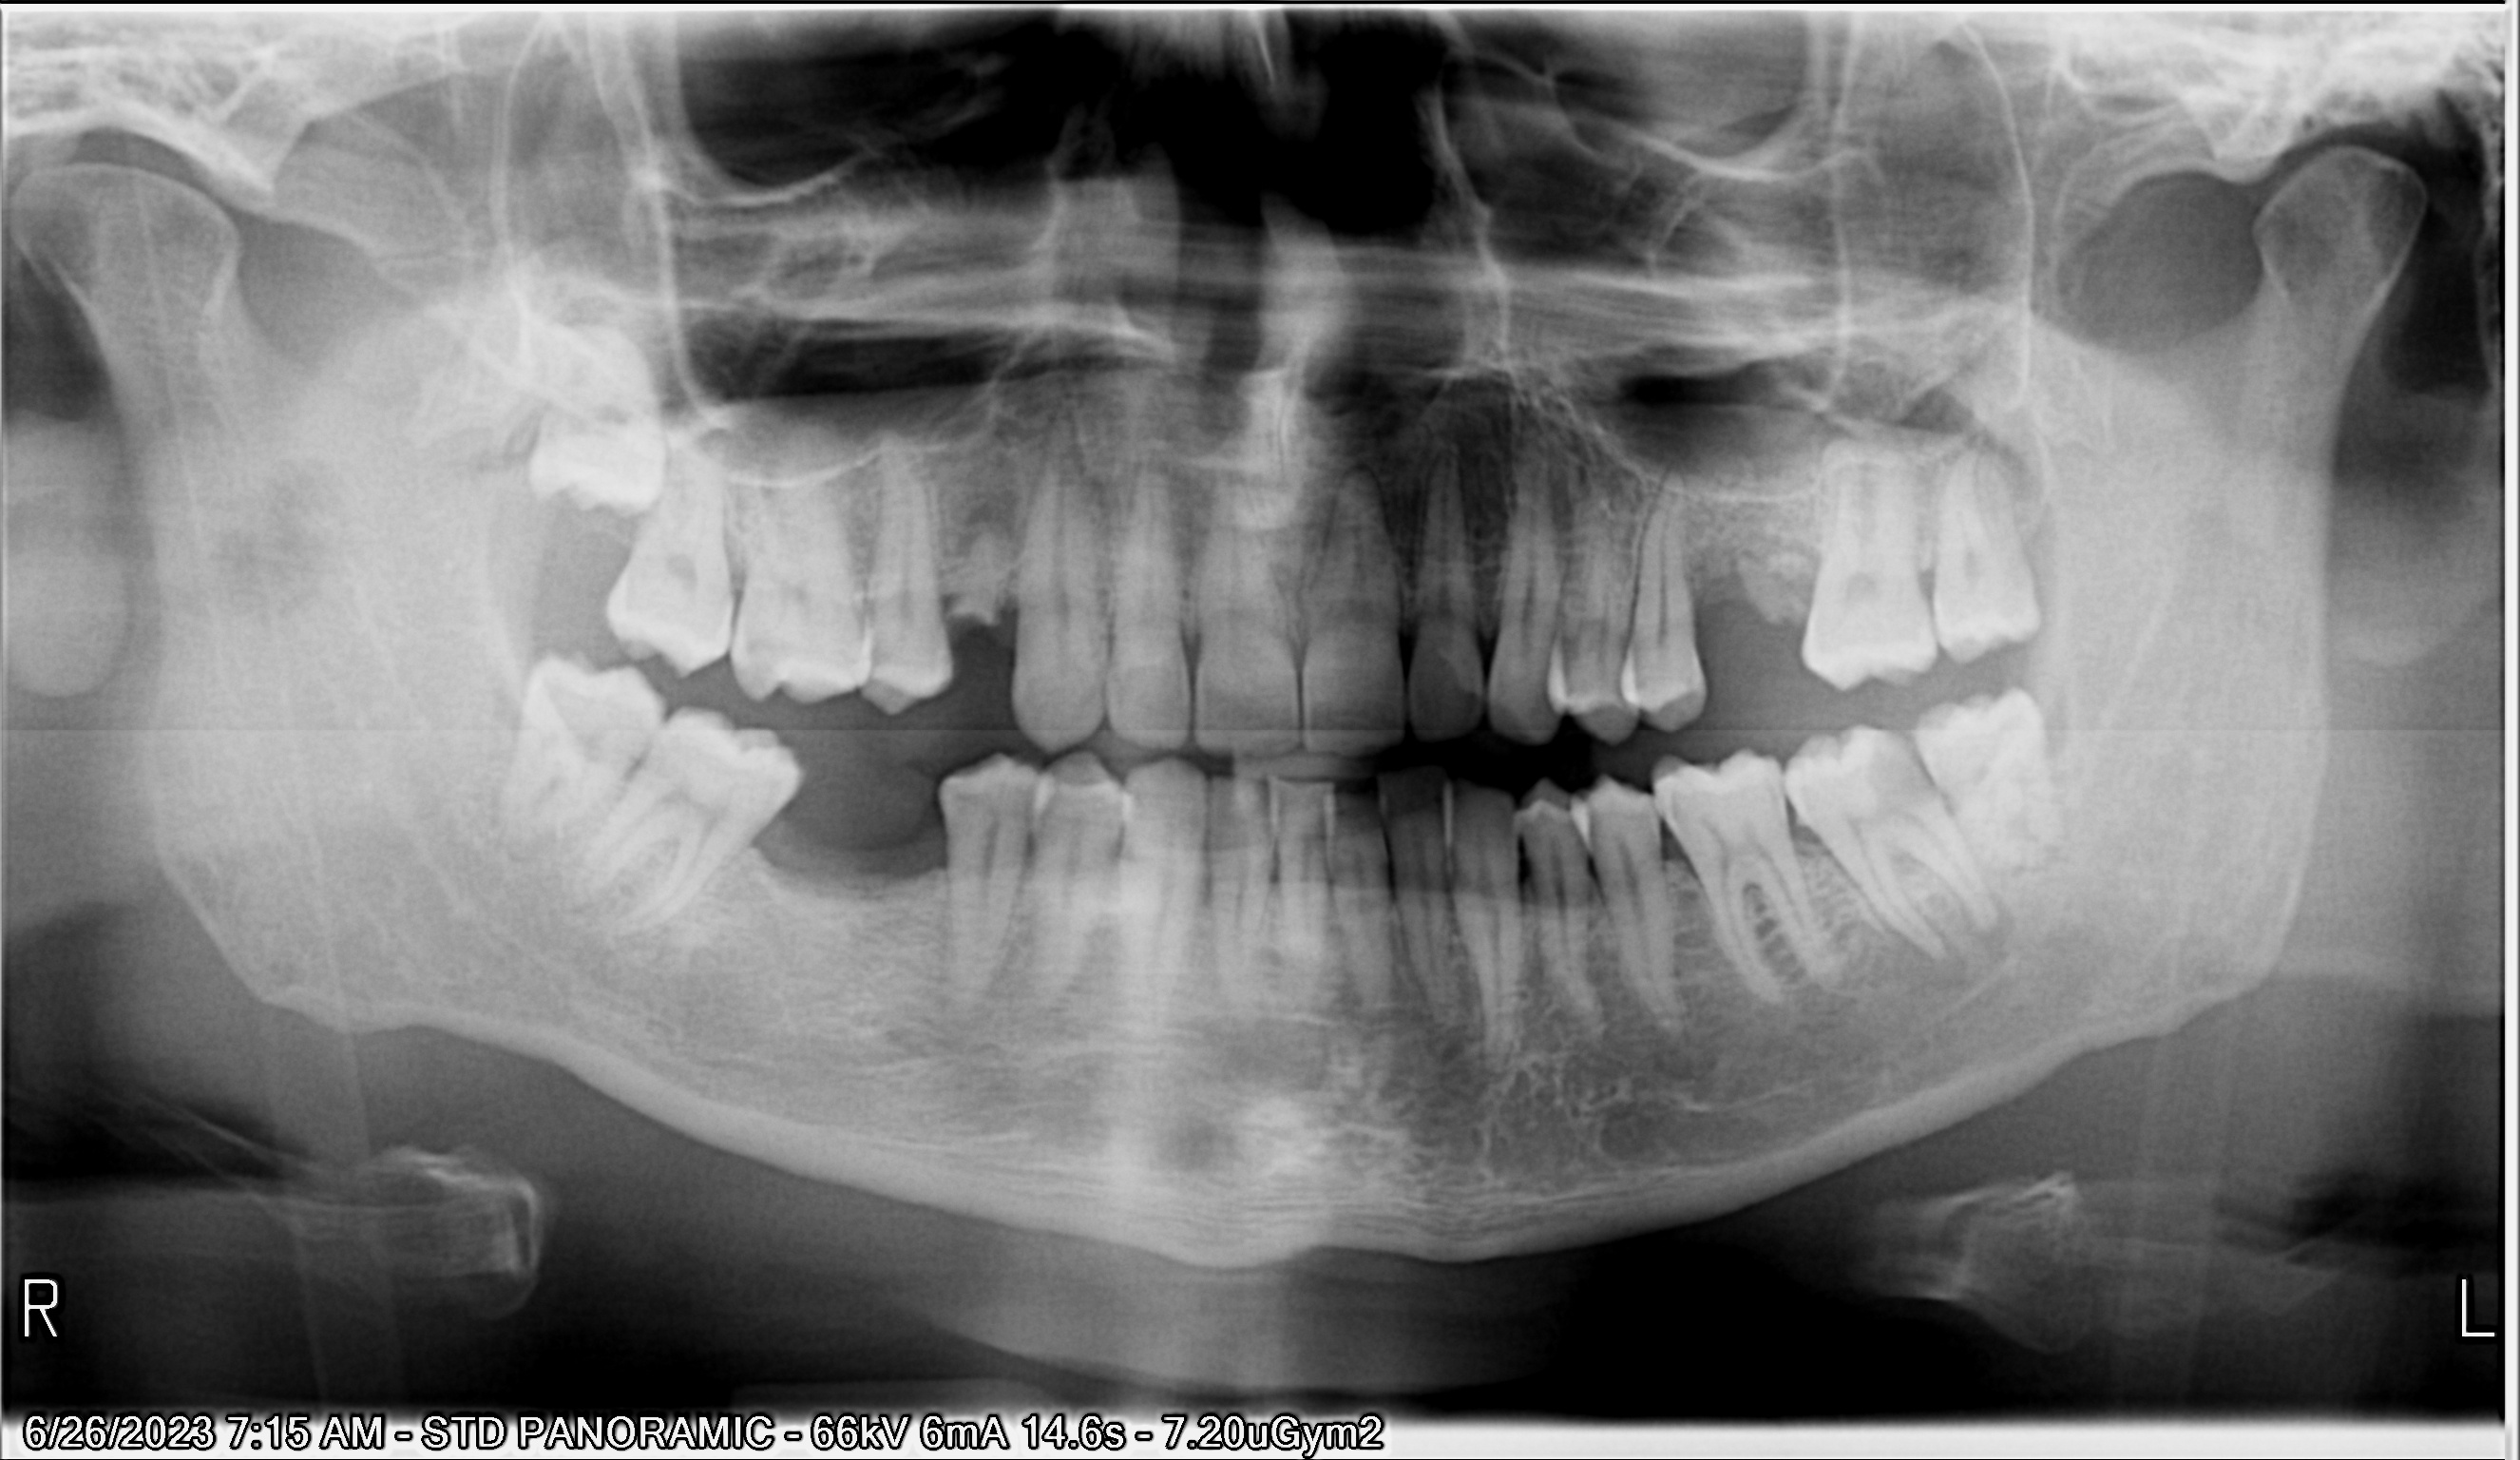API: (1966, 888, 2032, 970), (953, 488, 1019, 553), (1916, 933, 1969, 989)
BON: (1575, 852, 1600, 897), (1375, 853, 1400, 897), (1518, 855, 1537, 902), (1316, 855, 1334, 892), (1021, 838, 1035, 874), (1452, 855, 1464, 892), (1112, 838, 1124, 869), (1273, 845, 1280, 888)
CAR: (1858, 727, 1933, 831)
IMT: (504, 285, 679, 542)
ROT: (1728, 532, 1815, 647), (950, 551, 1025, 633)
